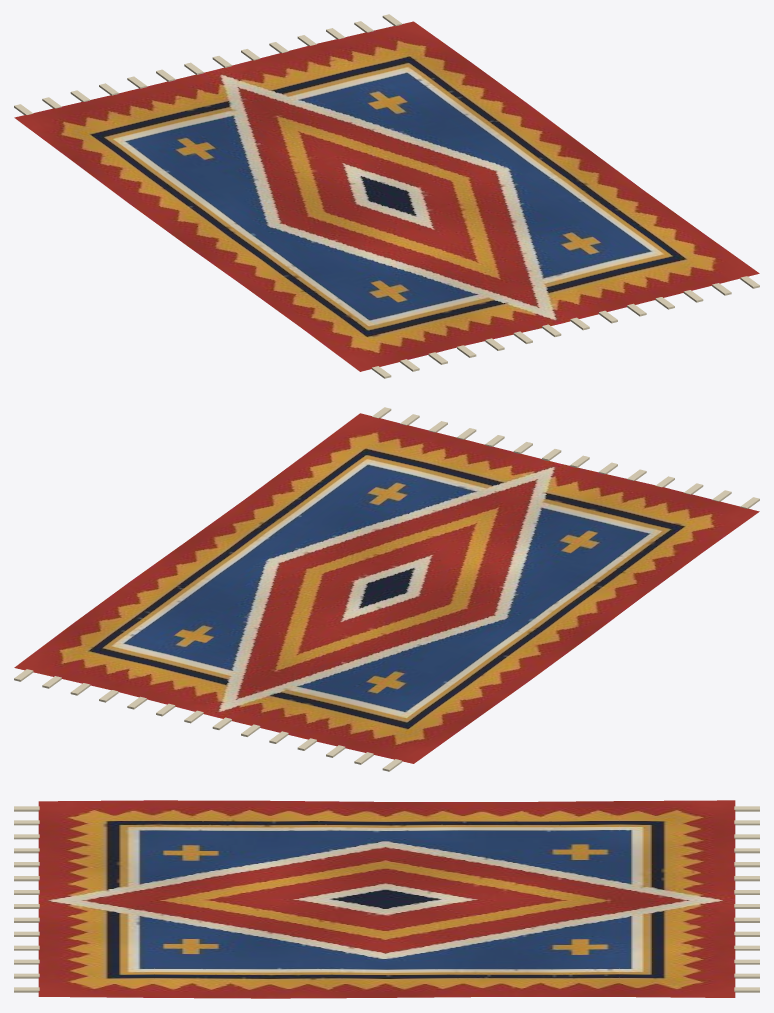
Rendered from interior_rug.glb.
The picture shows the model from 3 angles, top to bottom: view 1: azimuth 30°, elevation 25°; view 2: azimuth 150°, elevation 25°; view 3: azimuth 270°, elevation 25°; orthographic projection.
Visible parts, largest first — view 1: interior_rug; view 2: interior_rug; view 3: interior_rug.
Boxes of the visible parts, box(x1,y1,x2,y2) form: interior_rug: box(14, 14, 759, 378); interior_rug: box(14, 407, 759, 771); interior_rug: box(14, 800, 759, 998).
Size of the model in its own units: 1.8 by 0.008 by 2.89.
Materials: 2 (1 with a texture image).
